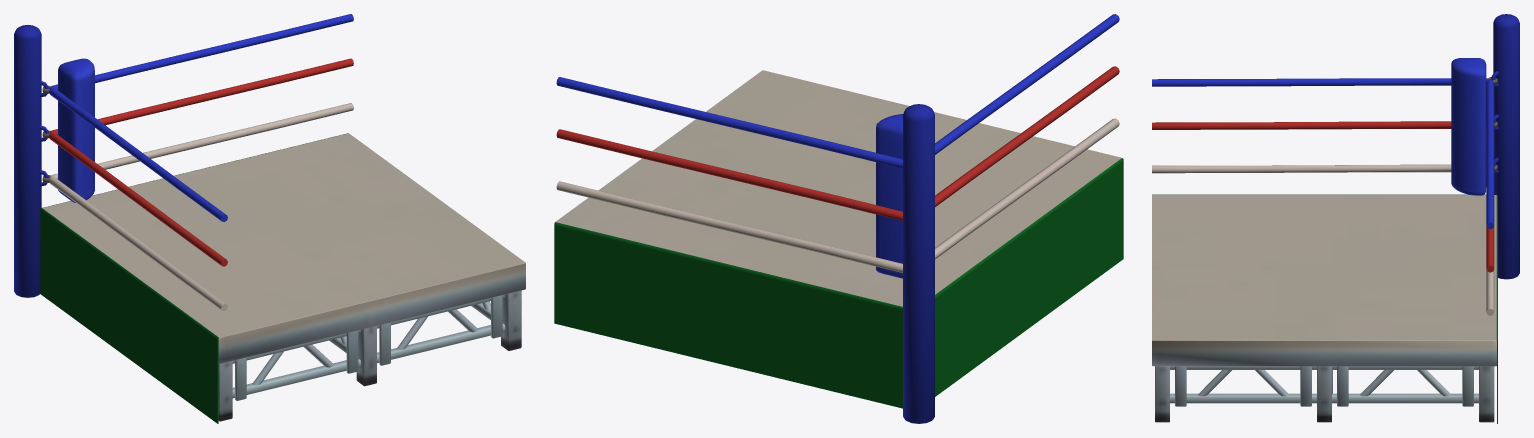
3 renders of one model, left to right at view 1: azimuth 30°, elevation 25°; view 2: azimuth 150°, elevation 25°; view 3: azimuth 270°, elevation 25°, orthographic. The views are drawn at different scales.
Bounding box in the file's own units: 19.91 × 15.43 × 19.91.
Materials: 2 (2 with a texture image).
